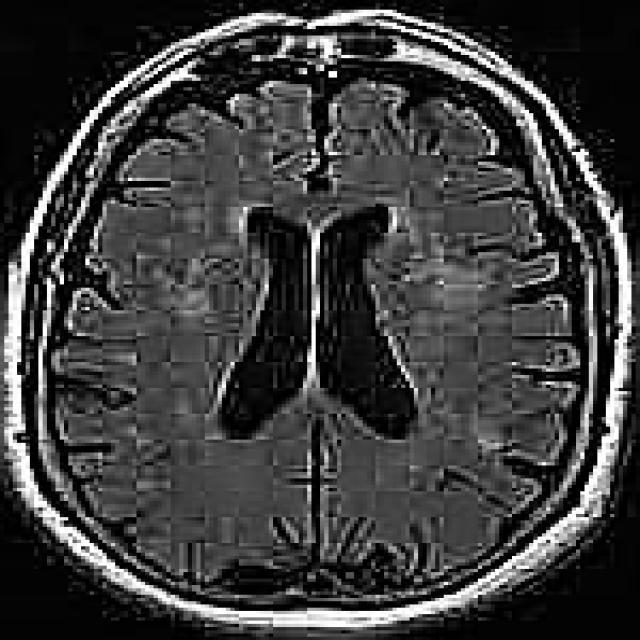notumor: (9, 3, 627, 627)
